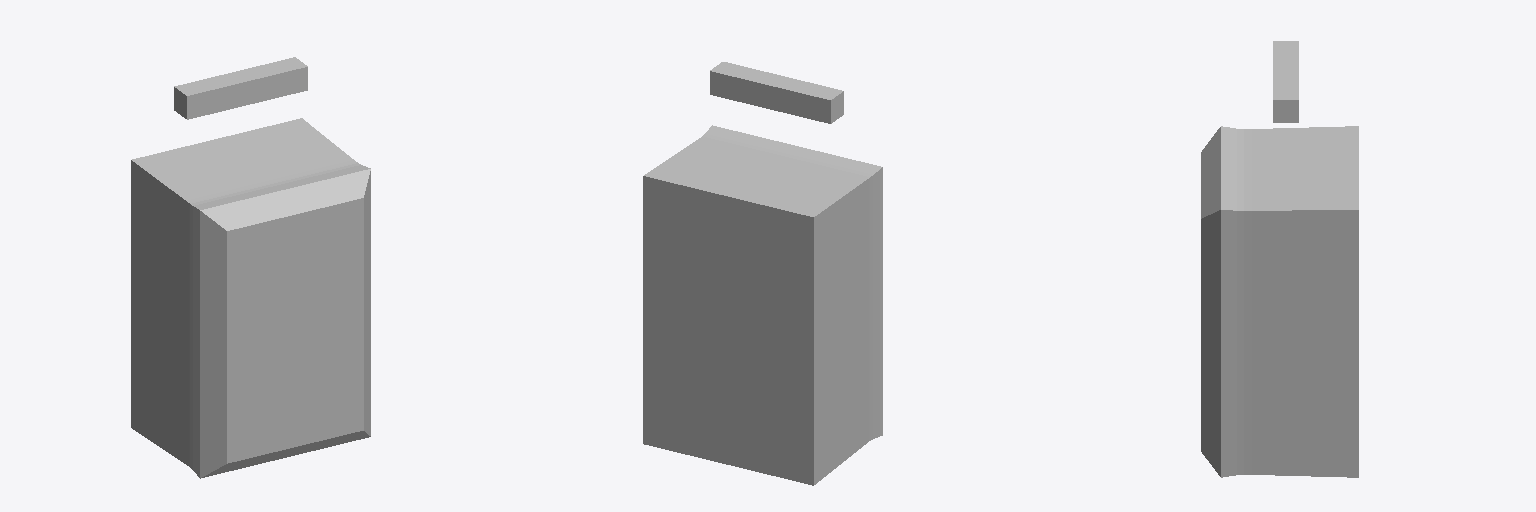
The model's file is electricbox_uv.obj.
3 views of the same model, side by side, from view 1: azimuth 30°, elevation 25°; view 2: azimuth 150°, elevation 25°; view 3: azimuth 270°, elevation 25° (orthographic).
Visible parts, largest first — view 1: ElectricBox MainBuilding WireBox, WireHolder ElectricBox MainBuilding; view 2: ElectricBox MainBuilding WireBox, WireHolder ElectricBox MainBuilding; view 3: ElectricBox MainBuilding WireBox, WireHolder ElectricBox MainBuilding.
Part boxes in pixels (x1,y1,x2,y2): ElectricBox MainBuilding WireBox: (131, 118, 370, 478); WireHolder ElectricBox MainBuilding: (174, 57, 307, 119); ElectricBox MainBuilding WireBox: (643, 125, 882, 485); WireHolder ElectricBox MainBuilding: (710, 62, 843, 123); ElectricBox MainBuilding WireBox: (1201, 126, 1358, 477); WireHolder ElectricBox MainBuilding: (1273, 41, 1298, 122).
Bounding box in the file's own units: 0.7523 × 1.52 × 0.6018.